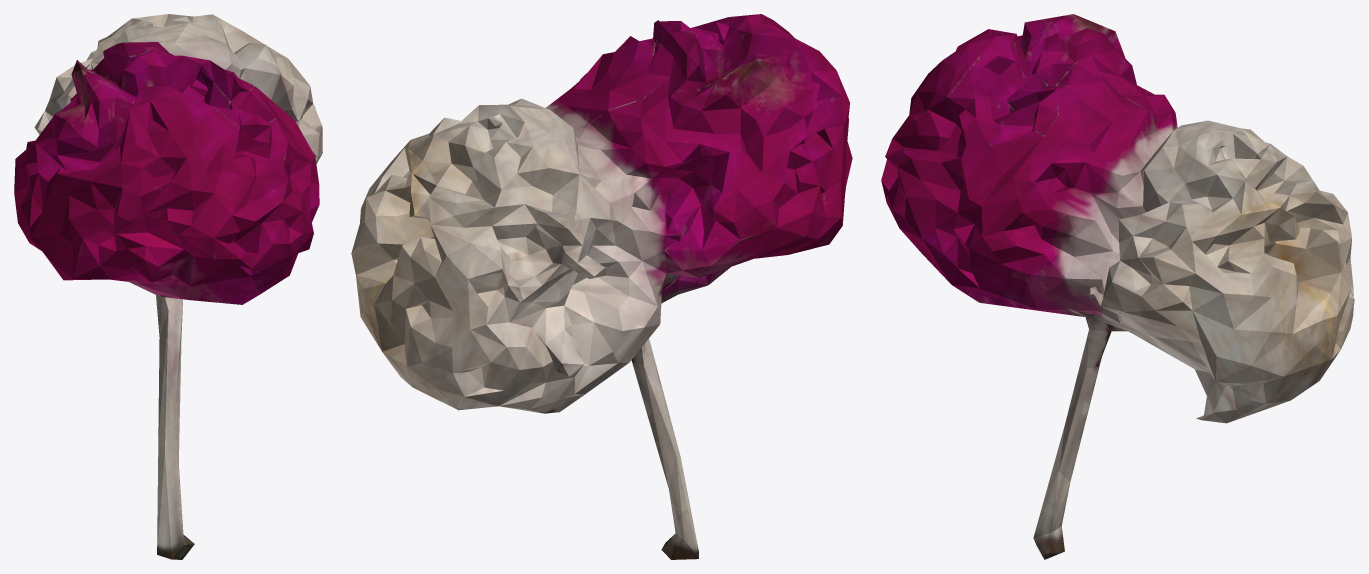
The model's file is ACC55BCB-8DDE-F742-817D-7717B2E7A5CD_512.glb.
The picture shows the model from 3 angles, left to right: view 1: azimuth 30°, elevation 25°; view 2: azimuth 150°, elevation 25°; view 3: azimuth 270°, elevation 25°; orthographic projection. The views are drawn at different scales.
Parts seen in each view (by area): view 1: Pfingstrosen Mutmacher_2k_0.5k; view 2: Pfingstrosen Mutmacher_2k_0.5k; view 3: Pfingstrosen Mutmacher_2k_0.5k.
Boxes of the visible parts, x1,y1,x2,y2 form: Pfingstrosen Mutmacher_2k_0.5k: [14, 14, 322, 559]; Pfingstrosen Mutmacher_2k_0.5k: [351, 14, 852, 559]; Pfingstrosen Mutmacher_2k_0.5k: [881, 14, 1354, 559].
Size of the model in its own units: 0.0742 by 0.1021 by 0.0853.
1 material, 1 textured.
